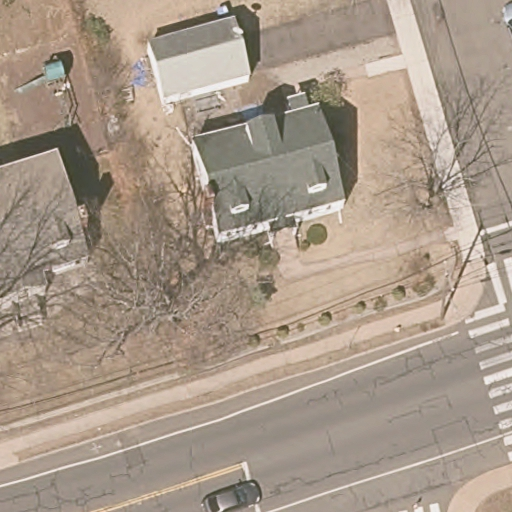DT: (438, 256, 456, 323)
